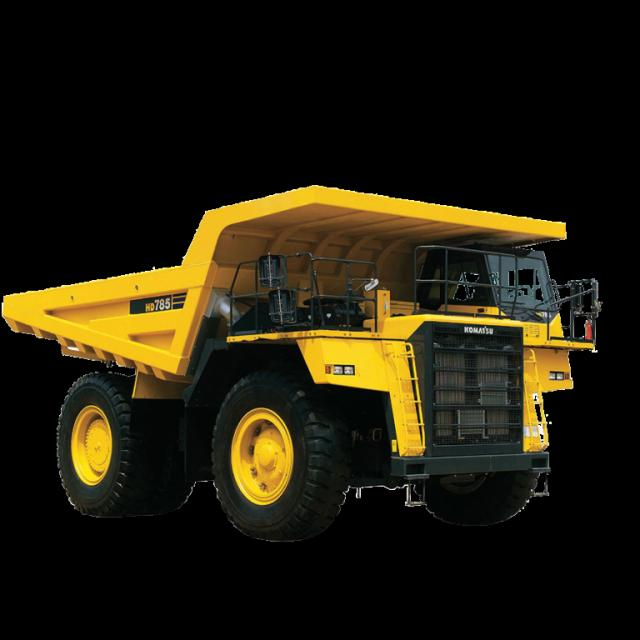dump_truck: (2, 184, 606, 541)
